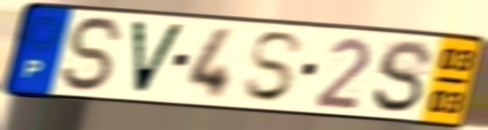2: (313, 34, 376, 112)
4: (184, 25, 238, 103)
S: (59, 14, 128, 95), (368, 37, 437, 116), (241, 30, 307, 105)
V: (128, 18, 189, 98)
